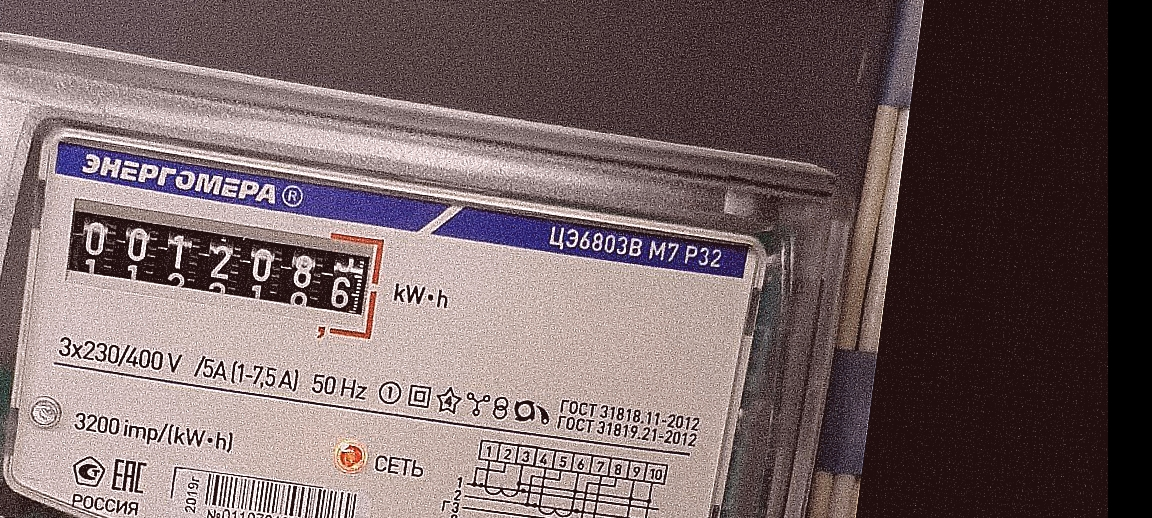0: (80, 216, 111, 258), (123, 224, 152, 264), (247, 244, 275, 283)
1: (164, 231, 190, 272)
2: (206, 241, 236, 282)
6: (326, 272, 353, 311)
8: (287, 251, 317, 291)
screen: (53, 190, 394, 346)
